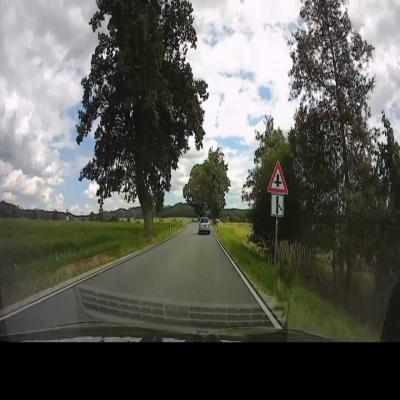clear-road: (84, 223, 257, 303)
